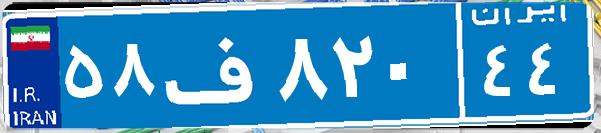0: (385, 28, 445, 110)
2: (330, 28, 385, 110)
4: (475, 38, 525, 113), (525, 38, 570, 115)
5: (57, 26, 110, 107)
8: (273, 28, 330, 110), (110, 28, 158, 105)
ف: (158, 15, 273, 115)
